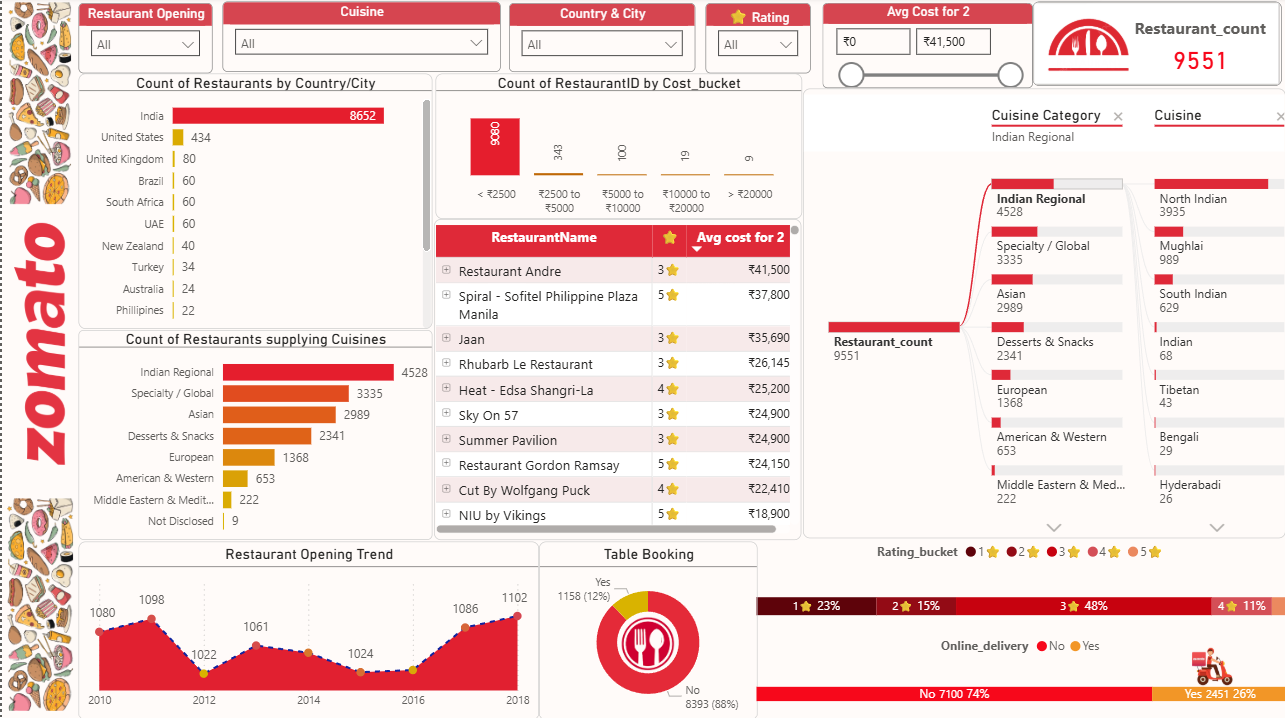

The dashboard page shown, as its layout file describes it:
{"tool":"tableau","page":{"name":"Dashboard 1","canvas":[1000,1000],"units":"permille","ordinal":0},"visuals":[{"type":"title","box":[4.7,9.3,990.6,67.8]},{"type":"image","param":"Image/Zomato-01.png","box":[4.7,77.1,87.2,154.2]},{"type":"worksheet","title":"Q9.1","mark":"Bar","rows":["Cuisines"],"cols":["RestaurantID"],"box":[91.9,77.1,228.8,488.3]},{"type":"worksheet","title":"Q5","mark":"Bar","rows":["RestaurantID"],"box":[320.7,77.1,213.6,488.3]},{"type":"worksheet","title":"Cities","mark":"Automatic","box":[534.2,77.1,90.7,153.8]},{"type":"worksheet","title":"Countries KPI","mark":"Automatic","box":[624.9,77.1,96.5,153.8]},{"type":"worksheet","title":"No.of Restaurents","mark":"Automatic","box":[721.5,77.1,100.7,153.8]},{"type":"worksheet","title":"Cuisines","mark":"Automatic","box":[822.1,77.1,90.1,153.8]},{"type":"worksheet","title":"Avg_Rating","mark":"Automatic","box":[912.2,77.1,83.1,153.8]},{"type":"worksheet","title":"Q8","mark":"Pie","rows":["Calculation_1653697936269313"],"box":[534.2,230.9,228.8,334.5]},{"type":"worksheet","title":"Q7","mark":"Pie","rows":["Calculation_1653697936269313","Calculation_1653697936297988"],"box":[763,230.9,232.3,334.5]},{"type":"image","param":"Image/efficient-courier-character-nimble-scooter-swiftly-navigating-through-traf","box":[4.7,231.3,87.2,203.6]},{"type":"filter","title":"Q4","param":"[federated.016xqse1vda4d4131lust1yyhlr4].[none:Country:nk]","box":[4.7,434.9,87.2,392.5]},{"type":"worksheet","title":"Q4","mark":"Line","rows":["RestaurantID"],"cols":["Calculation_0859850820710400"],"box":[91.9,565.4,276.8,425.2]},{"type":"worksheet","title":"Q 6","mark":"Bar","rows":["RestaurantID"],"box":[368.6,565.4,289.4,425.2]},{"type":"worksheet","title":"Q9.2","mark":"Automatic","rows":["City"],"cols":["RestaurantID"],"box":[658,565.4,337.3,425.2]},{"type":"filter","title":"Q4","param":"[federated.016xqse1vda4d4131lust1yyhlr4].[yr:Datekey/Opening:ok]","box":[4.7,827.4,87.2,60.8]},{"type":"parameter","param":"[Parameters].[Parameter 1]","box":[4.7,888.2,87.2,60.8]}]}

Visuals, with their boxes on the dashboard's canvas, which has no fixed pixel size, in thousandths of its width and height (x1, y1, x2, y2). These are canvas units, not pixel positions in the 1285x718 screenshot, which may show the page scaled, cropped or inside an application window:
title: (5, 9, 995, 77)
image: (5, 77, 92, 231)
"Q9.1" worksheet (Bar marks): (92, 77, 321, 565)
"Q5" worksheet (Bar marks): (321, 77, 534, 565)
"Cities" worksheet: (534, 77, 625, 231)
"Countries KPI" worksheet: (625, 77, 721, 231)
"No.of Restaurents" worksheet: (722, 77, 822, 231)
"Cuisines" worksheet: (822, 77, 912, 231)
"Avg_Rating" worksheet: (912, 77, 995, 231)
"Q8" worksheet (Pie marks): (534, 231, 763, 565)
"Q7" worksheet (Pie marks): (763, 231, 995, 565)
image: (5, 231, 92, 435)
"Q4" filter: (5, 435, 92, 827)
"Q4" worksheet (Line marks): (92, 565, 369, 991)
"Q 6" worksheet (Bar marks): (369, 565, 658, 991)
"Q9.2" worksheet: (658, 565, 995, 991)
"Q4" filter: (5, 827, 92, 888)
parameter: (5, 888, 92, 949)
